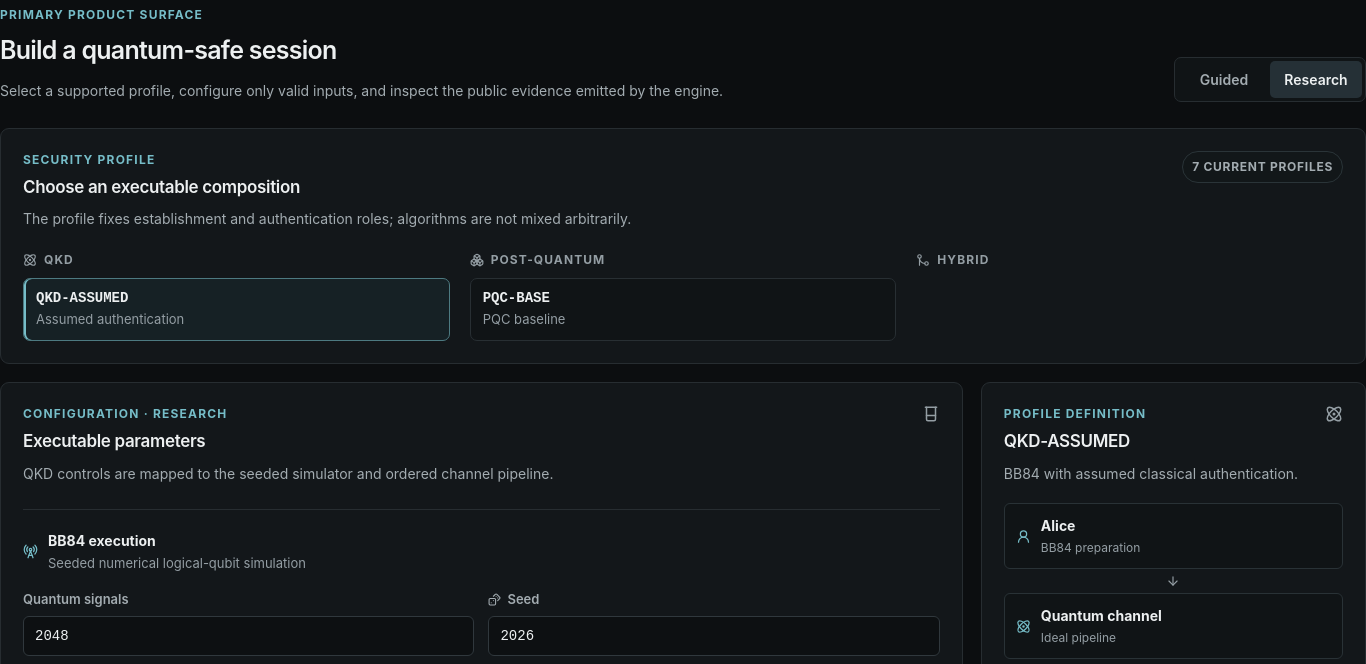
Test: configuration controls follow the selected profile capability
Expected: the number field labelled "Quantum signals 1–100,000 prepared signals" is shown, [23, 616, 474, 656]
Click the button "PQC-BASE PQC baseline".
click(516, 298)  # box [470, 278, 896, 341]
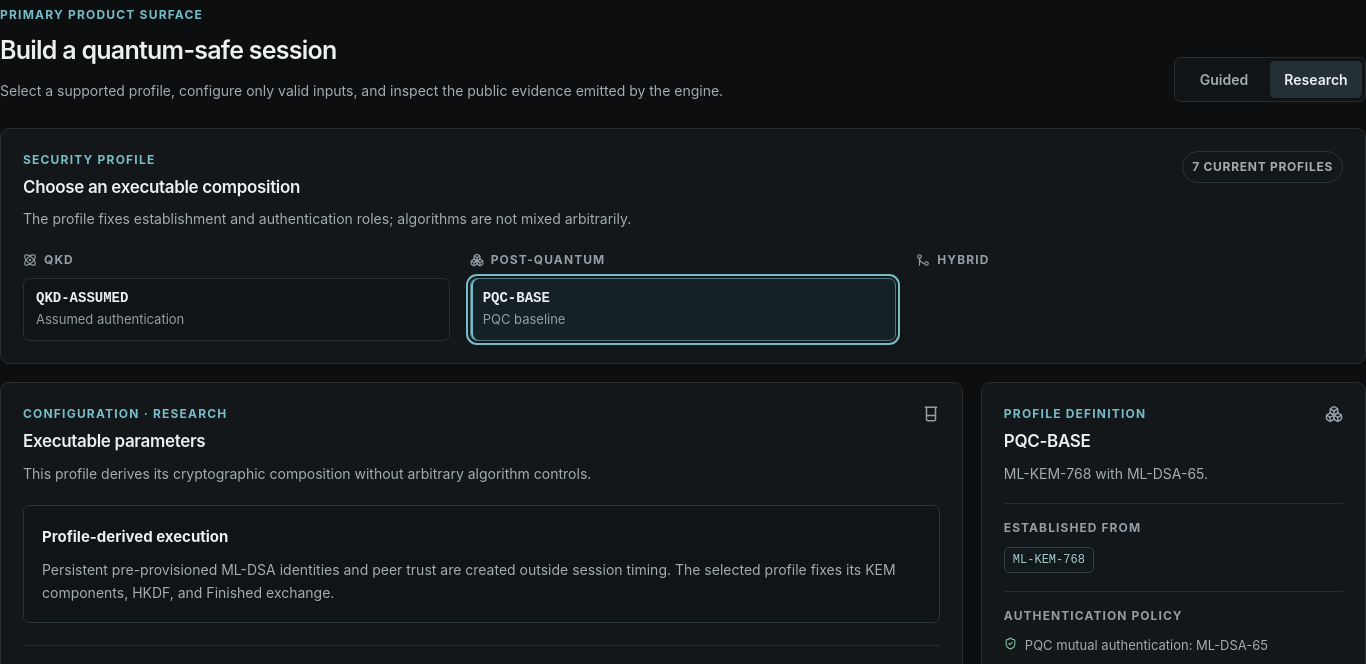
Expected: the text labelled "Quantum signals" is gone
Expected: the text "Persistent pre-provisioned ML-DSA identities" is shown, [42, 561, 896, 601]
